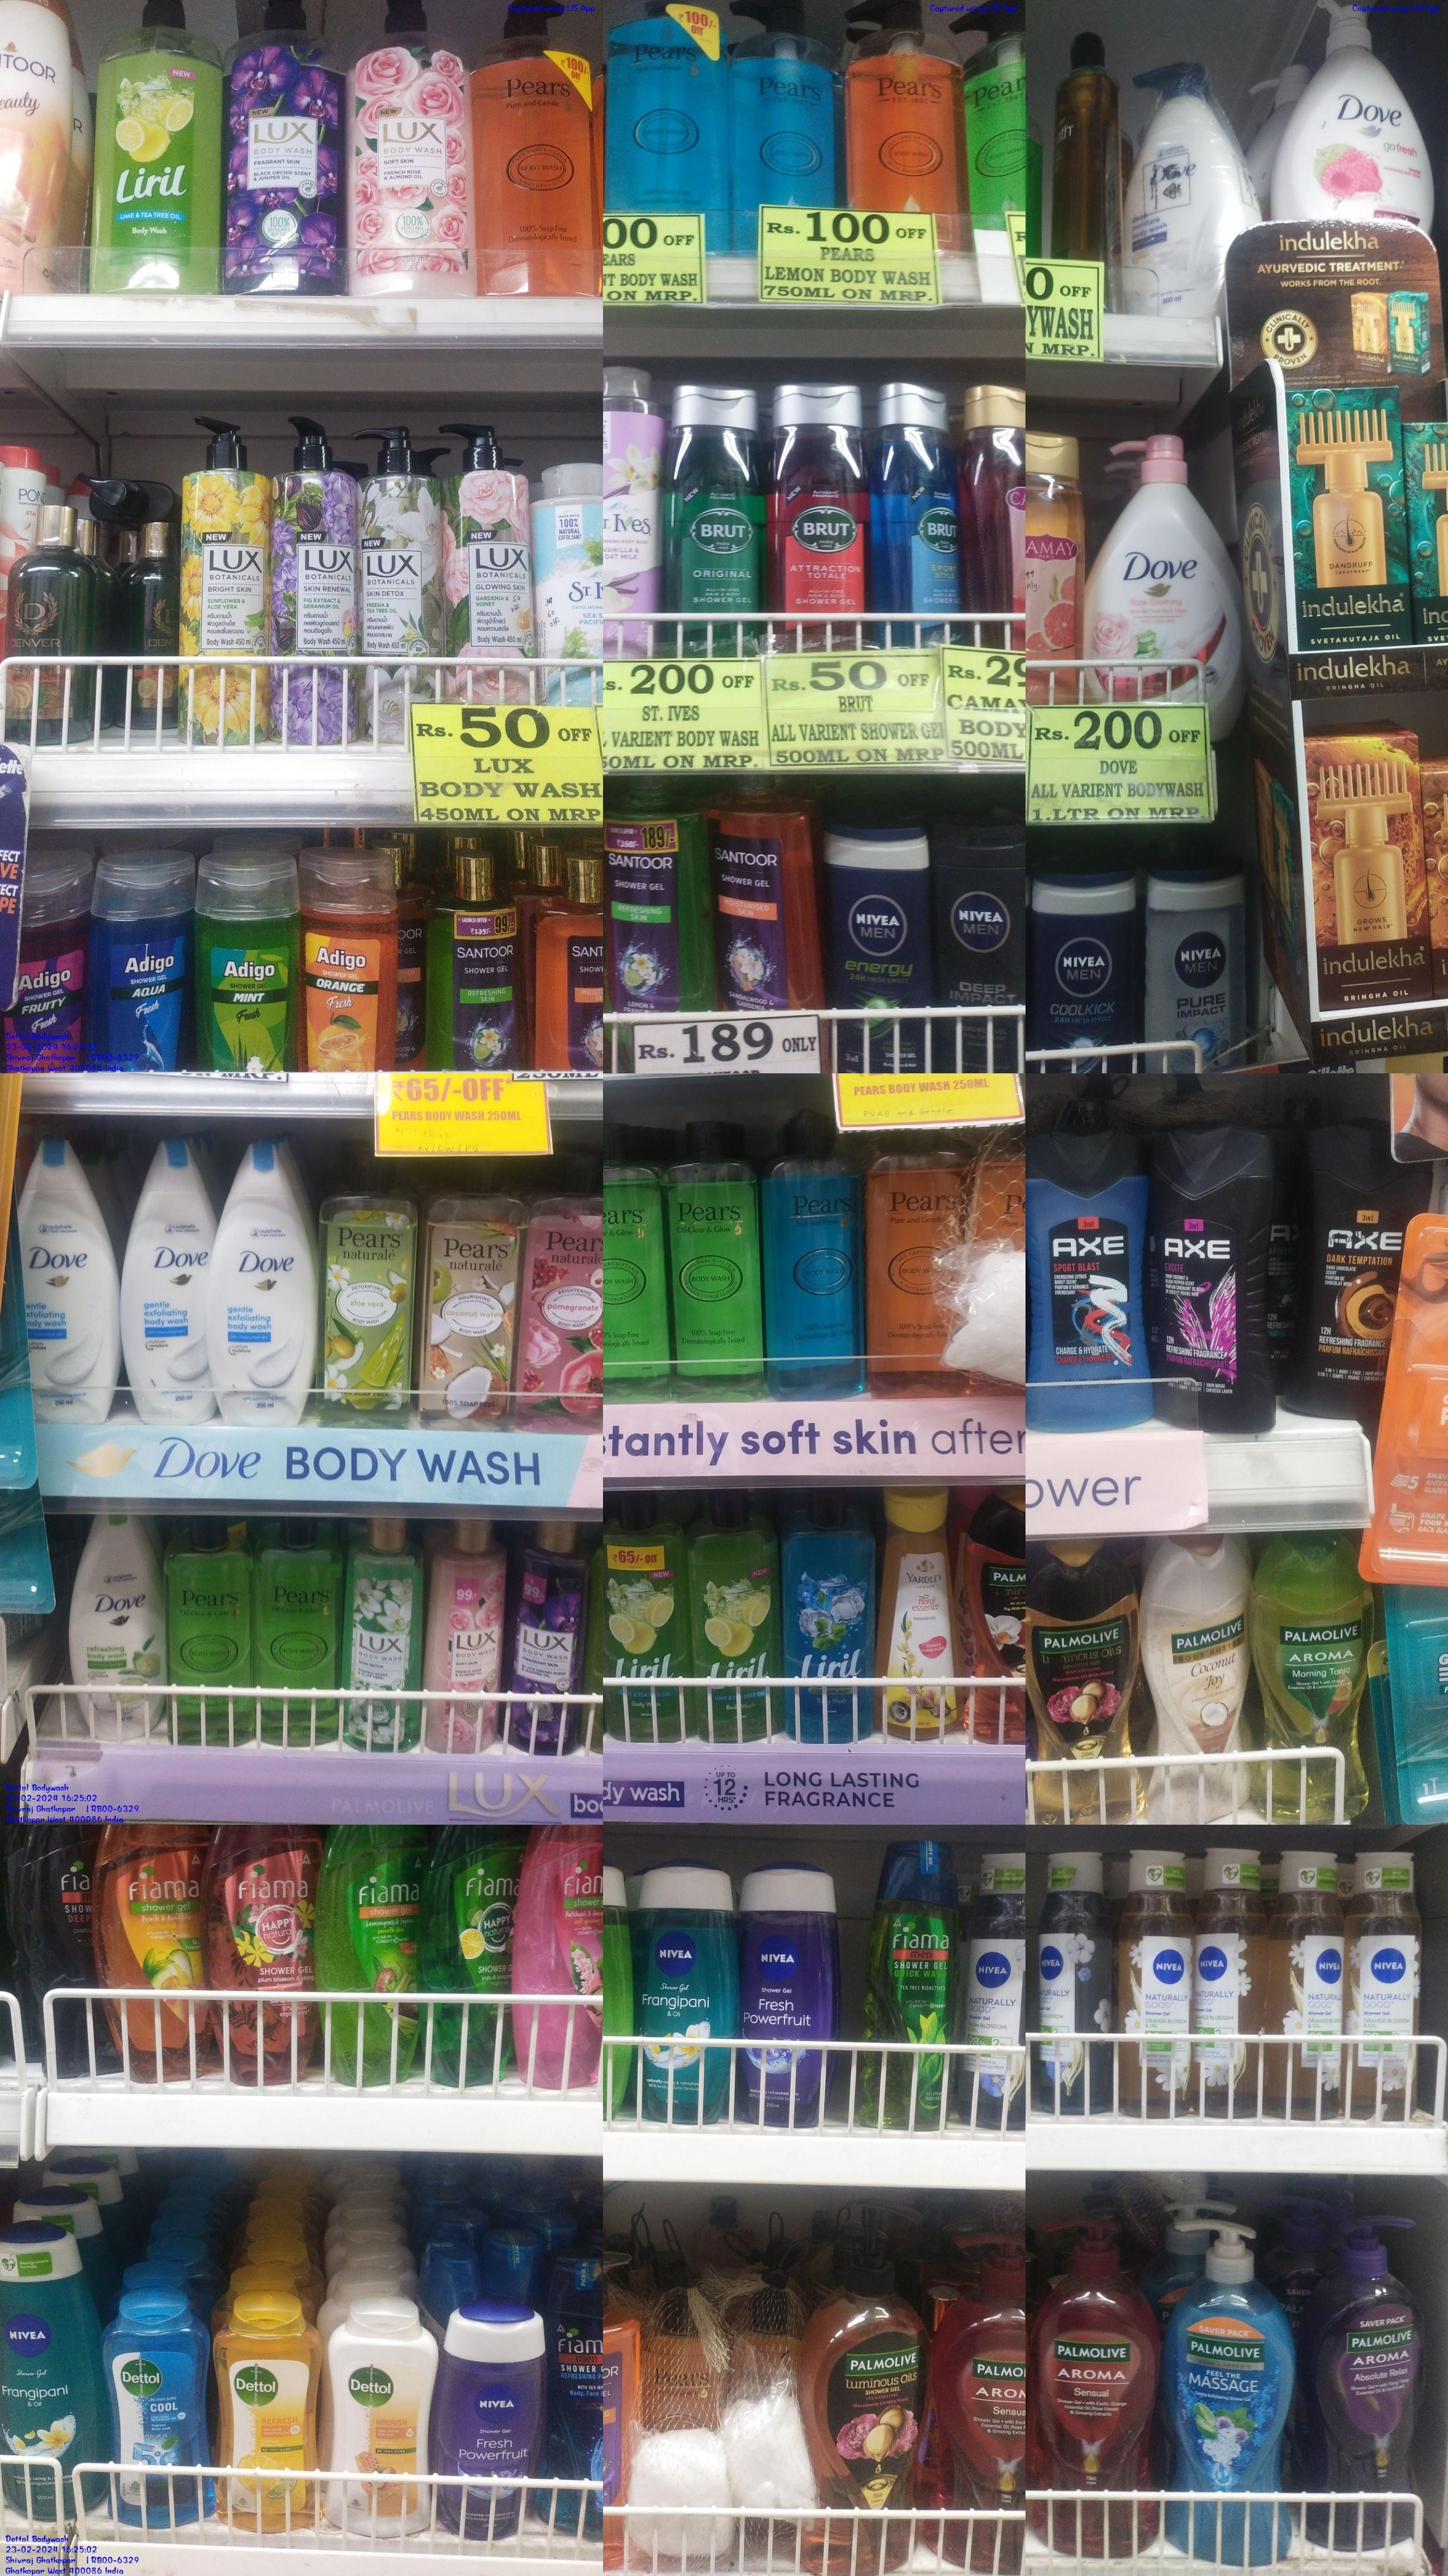Dettol_Bodywash_Cool: (103, 2307, 209, 2532)
Dettol_Bodywash_Refresh: (210, 2311, 322, 2532)
Dettol_Nourish_Body_Wash_250ML: (322, 2307, 438, 2541)
Dove_Gentle_Exfoliating_Body_Wash_250ML: (205, 1150, 315, 1428)
Dove_Refreshing_Body_Wash_250ML: (71, 1520, 164, 1741)
Fiama_Shower_Gel_Lemongrass_and_Jojoba_250ML: (318, 1829, 428, 2088)
Fiama_Shower_Gel_Patchouli_and_Macadamia_250ML: (516, 1822, 605, 2091)
Fiama_Shower_Gel_Peach_and_Avocado_250ML: (88, 1833, 216, 2084)
Liril_Cooling_Mint_Body_Wash_250ML: (783, 1514, 873, 1739)
Liril_Lime_and_Tea_Tree_Oil_Body_Wash_250ML: (594, 1514, 693, 1741), (693, 1520, 783, 1744)
Lux_Black_Orchid_Scent_and_Juniper_Oil_Body_Wash_245ML: (502, 1520, 583, 1755)
Lux_Body_Wash_Skin_Detox_Freesia_Scent_and_Alove_Vera_245ML: (343, 1525, 419, 1748)
Nivea_Shower_Gel_Frangipani_and_Oil_250ML: (0, 2236, 106, 2525), (633, 1867, 739, 2127)
Nivea_Shower_Gel_Fresh_Powerfruit_250ML: (741, 1865, 831, 2134), (440, 2319, 545, 2544)
Palmolive_Aroma_Morning_Tonic_Shower_Gel_250ML: (1255, 1546, 1368, 1826)
Palmolive_Coconut_Joy_Exfoliating_Body_Wash_250ML: (1147, 1548, 1252, 1826)
Palmolive_Luminous_Oils_Invigorating_Macadamia_Oil_With_Peony_250ML: (1029, 1552, 1147, 1821)
Pears_Naturale_Aloe_Vera_Body_Wash_250ML: (320, 1146, 412, 1435)
Pears_Pure_Glycerin_and_Lemon_Flower_Extracts_Body_Wash_250ML: (661, 1127, 766, 1392), (253, 1527, 341, 1748), (170, 1525, 251, 1752)
Pears_Pure_Glycerin_and_Mint_Extracts_Body_Wash_250ML: (767, 1122, 859, 1398)
